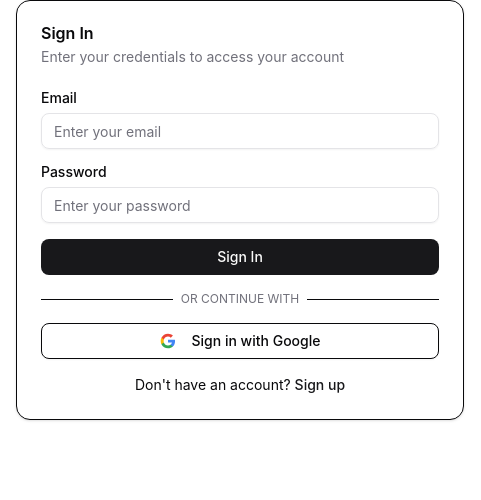
Test: SignInForm › shows error on Google sign in failure
Click the button "Sign in with Google".
click(240, 341)  # box 41,323 -> 439,359
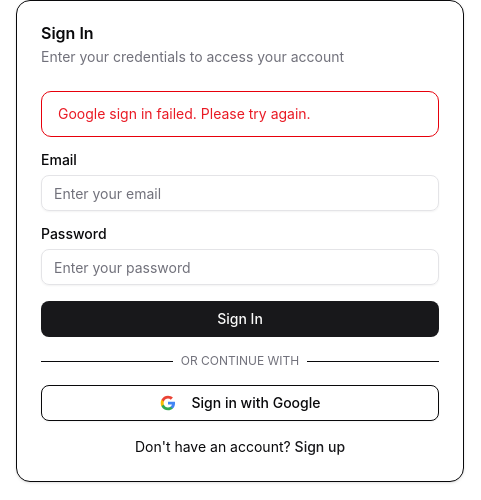
Now the text "Google sign in failed. Please try again." is shown, box 58,105 -> 311,122
